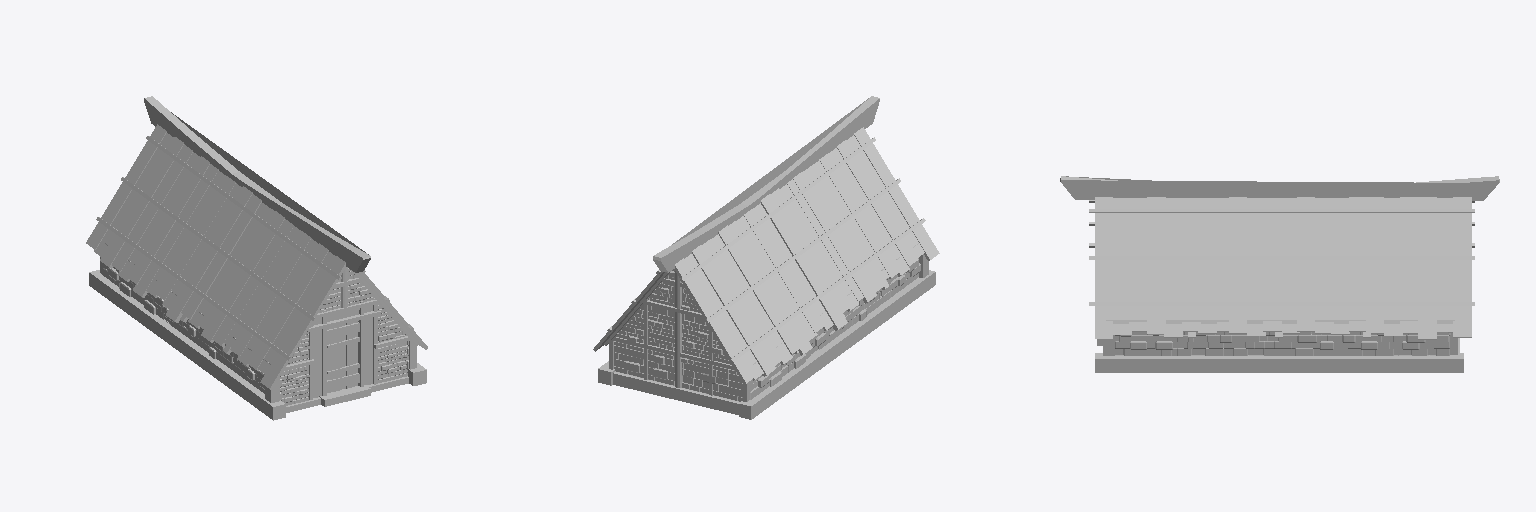
The model's file is lowpoly_viking_house_001.obj.
3 renders of one model, left to right at view 1: azimuth 30°, elevation 25°; view 2: azimuth 150°, elevation 25°; view 3: azimuth 270°, elevation 25°, orthographic.
Visible parts, largest first — view 1: Cube.1926, Cube.1992, Wall.164, Wall.159, Cube.1883, Cube.1888, Cube.1970, Cube.1954, Cube.1979, Cube.1952, Cube.1948, Cube.1985 (+19 smaller); view 2: Wall.159, Cube.1926, Cube.1992, Cube.1970, Cube.1948, Cube.1998, Cube.1954, Cube.1888, Cube.1952, Cube.1979, Cube.1985, Cube.1981 (+18 smaller); view 3: Cube.1926, Wall.159, Cube.1991, Cube.1947, Cube.1953, Cube.1983, Cube.1887, Cube.1956, Cube.1959, Cube.1972, Cube.1975, Cube.1967 (+17 smaller).
Boxes of the visible parts, x1,y1,x2,y2 form: Cube.1926: [144, 96, 370, 272]; Cube.1992: [89, 270, 285, 420]; Wall.164: [280, 268, 408, 405]; Wall.159: [103, 243, 408, 400]; Cube.1883: [327, 321, 359, 392]; Cube.1888: [260, 256, 345, 389]; Cube.1970: [166, 186, 252, 322]; Cube.1954: [100, 137, 183, 268]; Cube.1979: [201, 211, 284, 342]; Cube.1952: [128, 156, 209, 284]; Cube.1948: [86, 124, 166, 249]; Cube.1985: [247, 243, 328, 370]; Wall.159: [614, 243, 920, 401]; Cube.1926: [653, 96, 879, 272]; Cube.1992: [739, 270, 935, 419]; Cube.1970: [761, 194, 847, 330]; Cube.1948: [675, 258, 755, 384]; Cube.1998: [613, 372, 739, 414]; Cube.1954: [692, 245, 775, 376]; Cube.1888: [854, 127, 939, 260]; Cube.1952: [718, 225, 800, 354]; Cube.1979: [793, 172, 876, 303]; Cube.1985: [837, 140, 917, 265]; Cube.1981: [819, 153, 899, 278]; Cube.1926: [1060, 176, 1499, 200]; Wall.159: [1115, 332, 1450, 355]; Cube.1991: [1095, 353, 1463, 372]; Cube.1947: [1453, 197, 1471, 337]; Cube.1953: [1418, 197, 1436, 339]; Cube.1983: [1147, 197, 1165, 333]; Cube.1887: [1095, 197, 1112, 338]; Cube.1956: [1400, 197, 1418, 333]; Cube.1959: [1315, 198, 1333, 333]; Cube.1972: [1263, 198, 1281, 331]; Cube.1975: [1182, 198, 1200, 331]; Cube.1967: [1229, 197, 1246, 333].
Bounding box in the file's own units: 2.89 × 2.69 × 6.82.